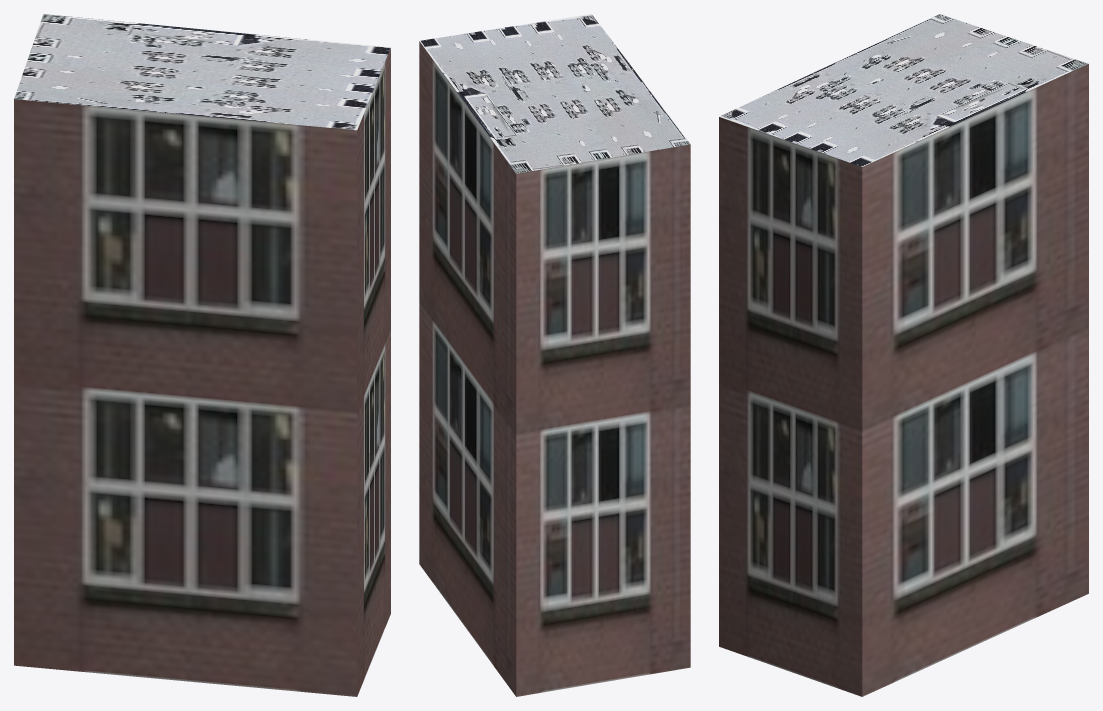
The model's file is ResTex__467.fbx.
3 renders of one model, left to right at view 1: azimuth 30°, elevation 25°; view 2: azimuth 150°, elevation 25°; view 3: azimuth 270°, elevation 25°, orthographic. The views are drawn at different scales.
Parts seen in each view (by area): view 1: CityEngineMaterial_12_m, CityEngineMaterial_m; view 2: CityEngineMaterial_12_m, CityEngineMaterial_m; view 3: CityEngineMaterial_12_m, CityEngineMaterial_m.
Boxes of the visible parts, x1=… form: CityEngineMaterial_12_m: x1=14, y1=48, x2=390, y2=696; CityEngineMaterial_m: x1=14, y1=14, x2=390, y2=130; CityEngineMaterial_12_m: x1=419, y1=41, x2=690, y2=696; CityEngineMaterial_m: x1=419, y1=14, x2=690, y2=173; CityEngineMaterial_12_m: x1=719, y1=64, x2=1088, y2=696; CityEngineMaterial_m: x1=719, y1=14, x2=1088, y2=166.
Size of the model in its own units: 3.72 by 6 by 3.8.
2 materials, 2 textured.
